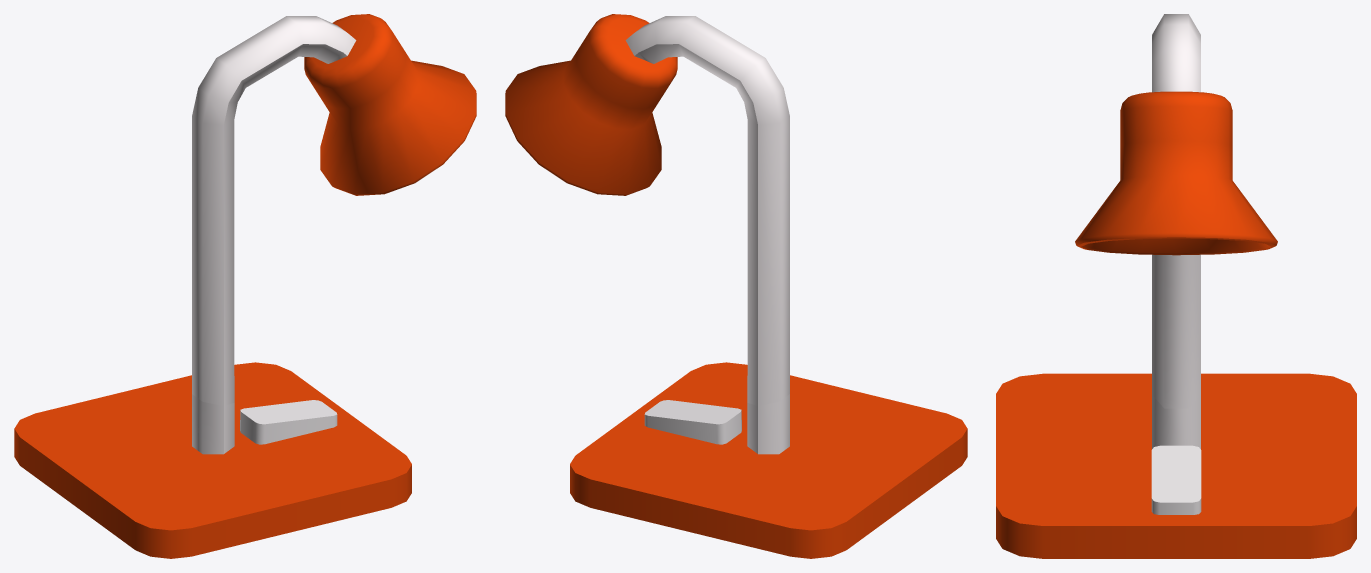
The model's file is Lamp_Broken.fbx.
The picture shows the model from 3 angles, left to right: view 1: azimuth 30°, elevation 25°; view 2: azimuth 150°, elevation 25°; view 3: azimuth 270°, elevation 25°; orthographic projection. The views are drawn at different scales.
Parts seen in each view (by area): view 1: Lamp2.002, Lamp2.001, Lamp2.003; view 2: Lamp2.002, Lamp2.001, Lamp2.003; view 3: Lamp2.002, Lamp2.001, Lamp2.003.
Boxes of the visible parts, <box> form: Lamp2.002: <box>14,362,411,558</box>; Lamp2.001: <box>304,14,476,195</box>; Lamp2.003: <box>192,16,356,405</box>; Lamp2.002: <box>570,362,967,558</box>; Lamp2.001: <box>505,14,677,195</box>; Lamp2.003: <box>625,16,789,405</box>; Lamp2.002: <box>996,373,1356,558</box>; Lamp2.001: <box>1075,91,1277,255</box>; Lamp2.003: <box>1152,14,1200,408</box>.
Size of the model in its own units: 114 by 123 by 80.16.
